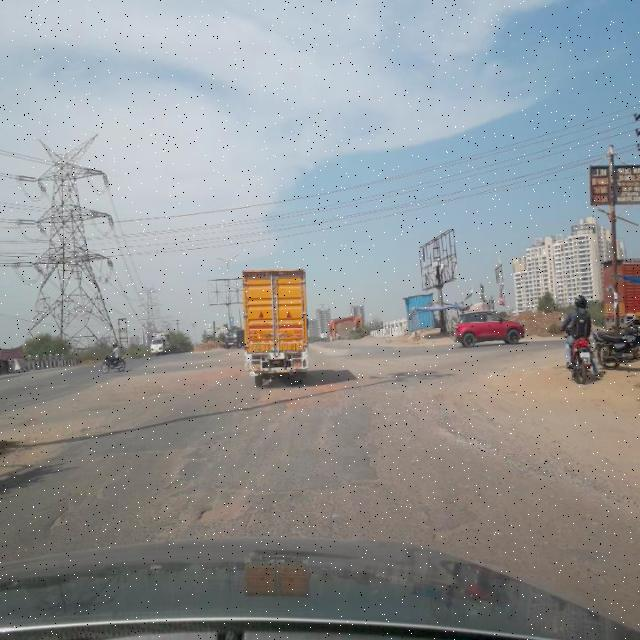D20: (141, 446, 407, 534)
D40: (250, 381, 354, 423), (113, 371, 217, 413), (185, 481, 262, 528), (46, 484, 111, 529), (415, 510, 481, 548)
